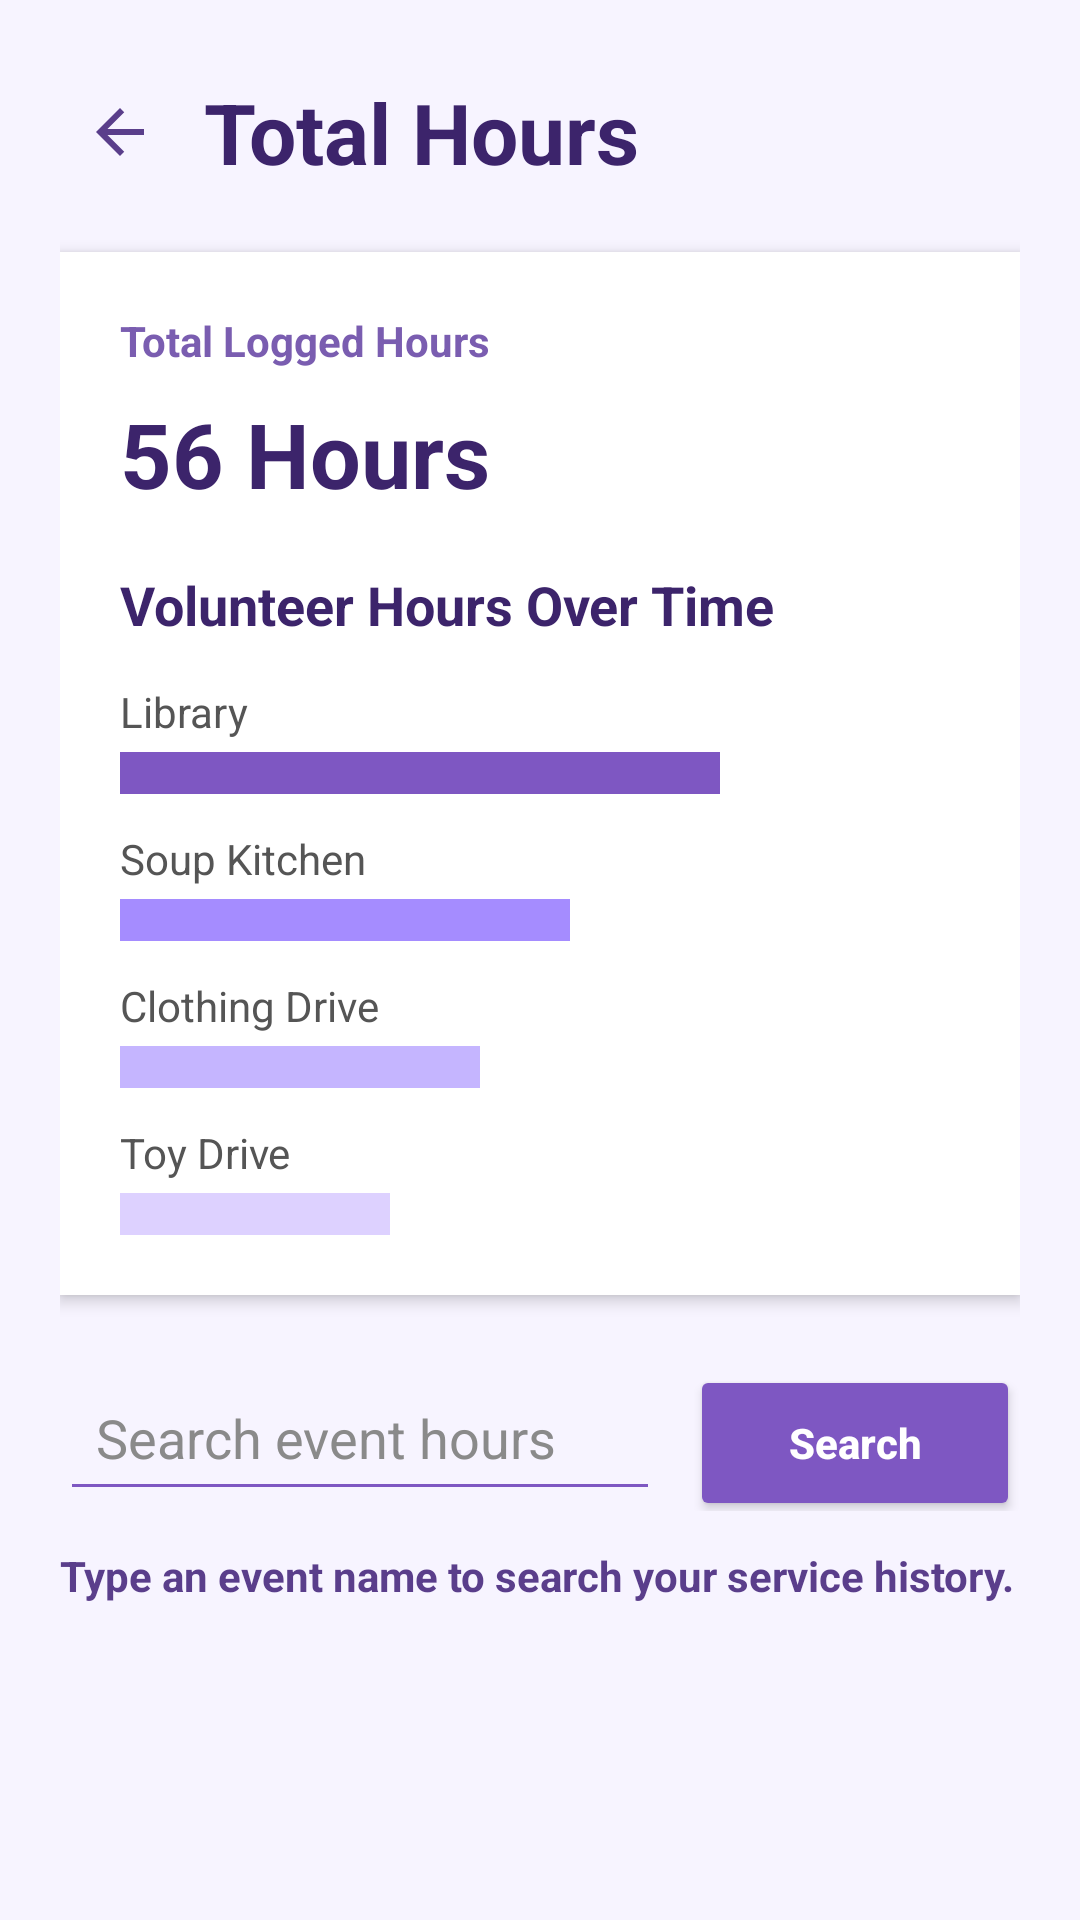

Screen size 1080×1920. Icon name, then its box in pixels as box(x1, y1, x2, y2):
Back: box(96, 108, 144, 156)
